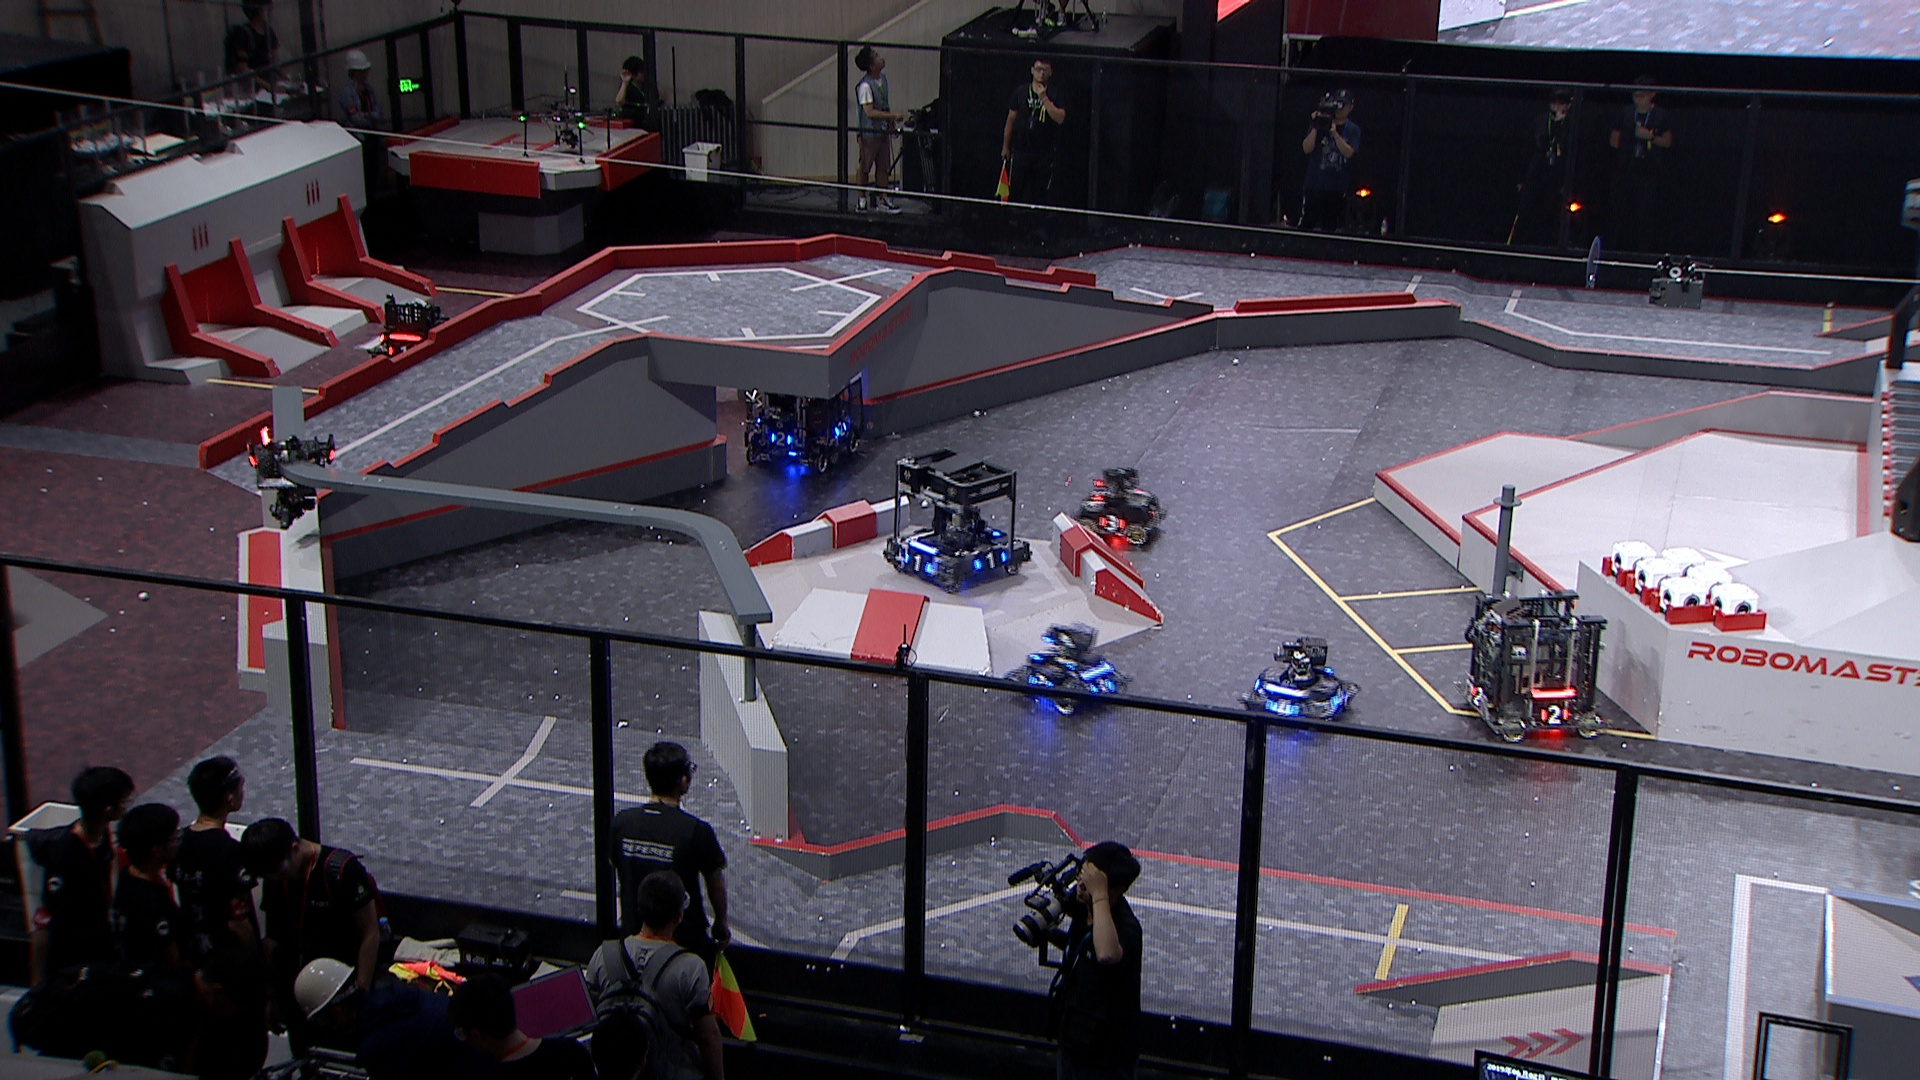armor: (973, 553, 1007, 572), (1267, 695, 1295, 717), (1542, 704, 1571, 725), (902, 551, 928, 574), (1029, 673, 1054, 694), (1098, 514, 1124, 533), (1470, 684, 1489, 709), (1093, 679, 1116, 695), (769, 433, 793, 447), (833, 419, 851, 439), (390, 342, 409, 357), (1333, 690, 1352, 705), (1091, 483, 1105, 501)
car: (880, 443, 1034, 591), (1461, 583, 1604, 741), (735, 352, 872, 477), (1002, 618, 1129, 717), (1236, 636, 1360, 731), (1077, 462, 1168, 550), (367, 291, 458, 380)
watcher: (244, 425, 340, 529)
